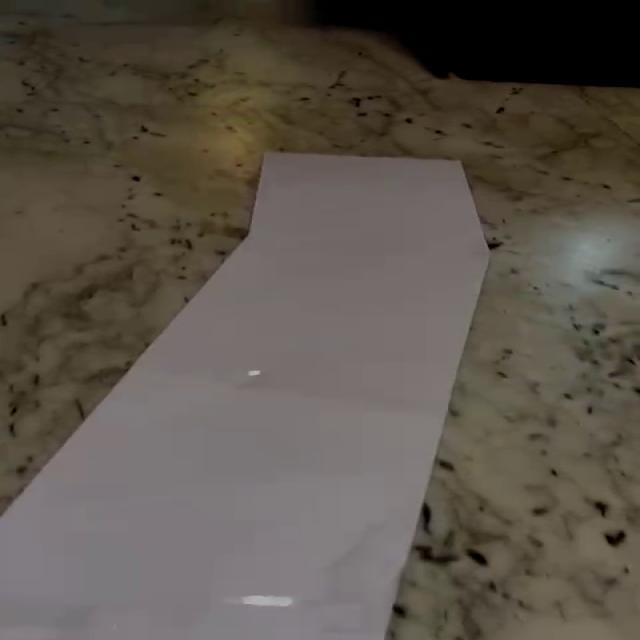road: (1, 152, 488, 640)
